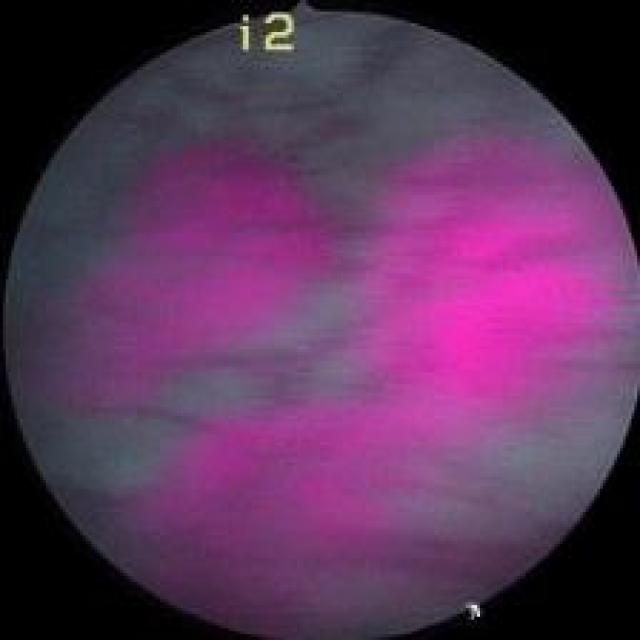blur: (6, 13, 635, 634)
color misalignment: (236, 11, 290, 54)
